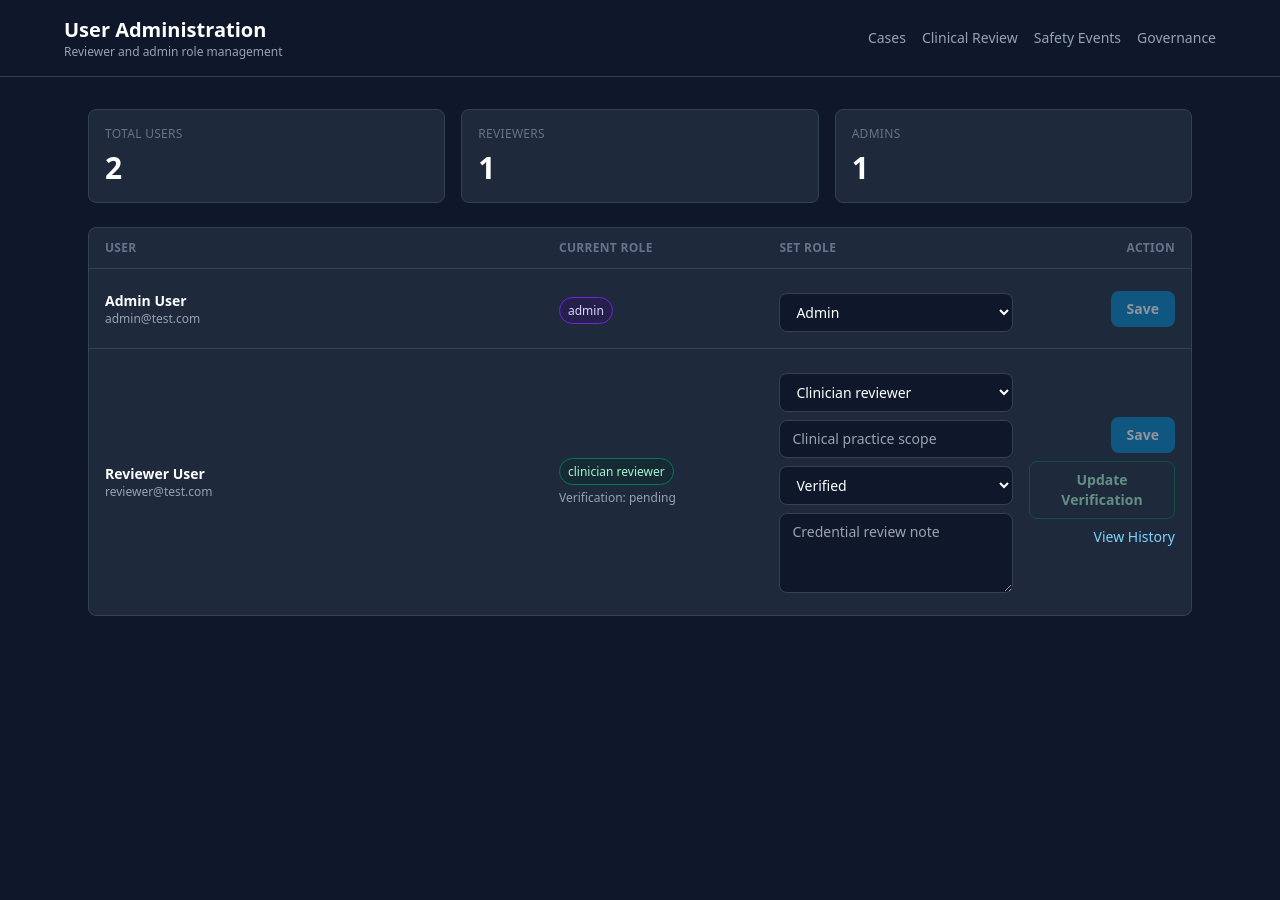
Test: AdminUsersPage › shows credential history when requested
Step 1. Click the button "View History" → point(1134, 536), box [1094,526,1175,546]
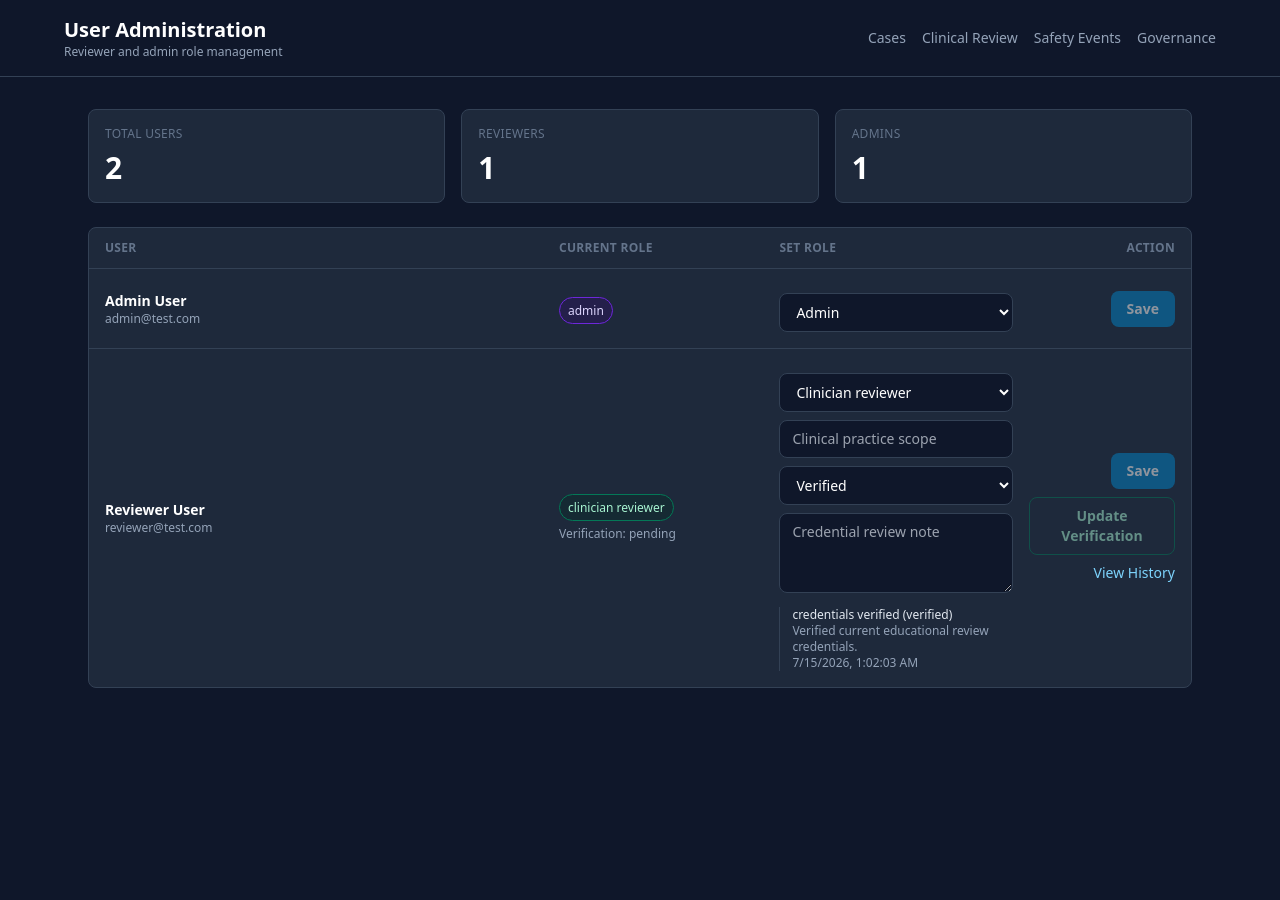
Now the list named "Credential history for Reviewer User" is shown, box [779,607,1013,671]
Now the text "Verified current educational review credentials." is shown, box [792,623,1013,655]
